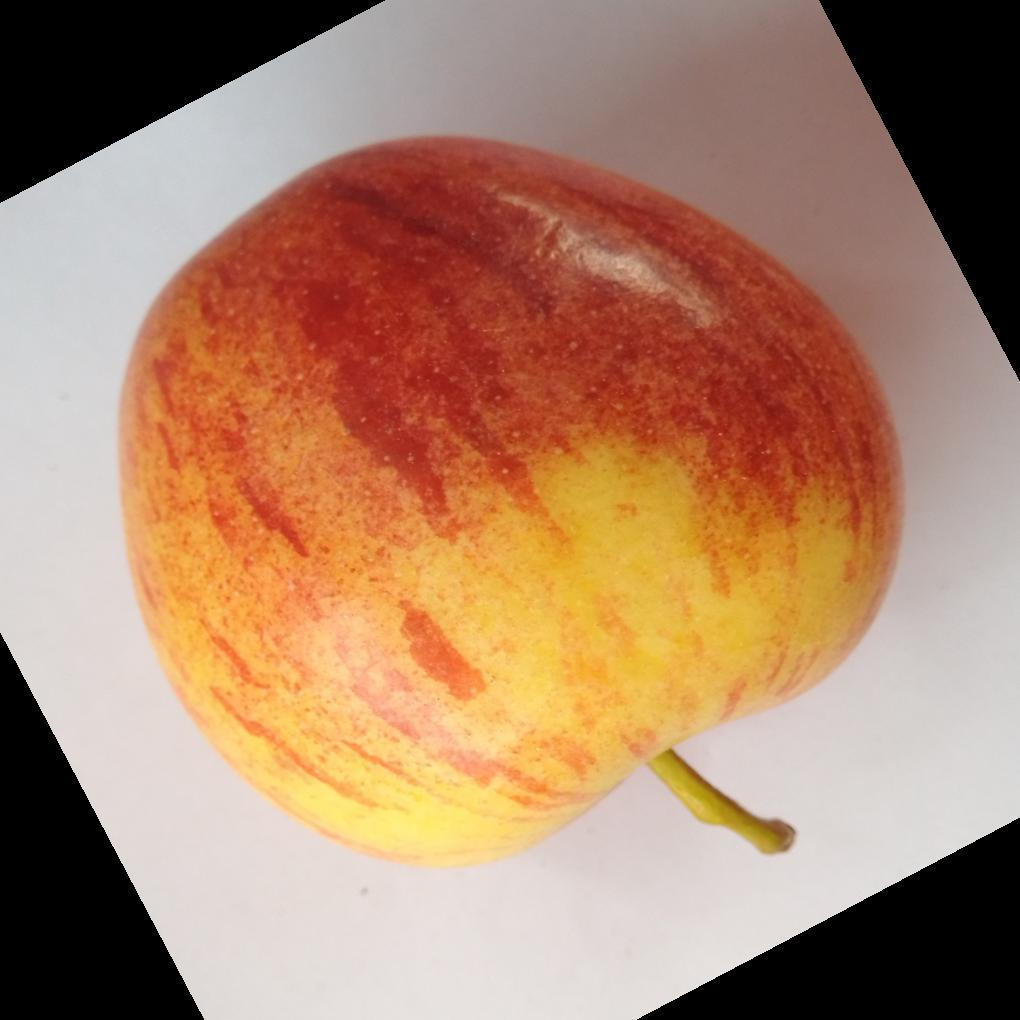FreshGuava: (114, 135, 905, 873)
